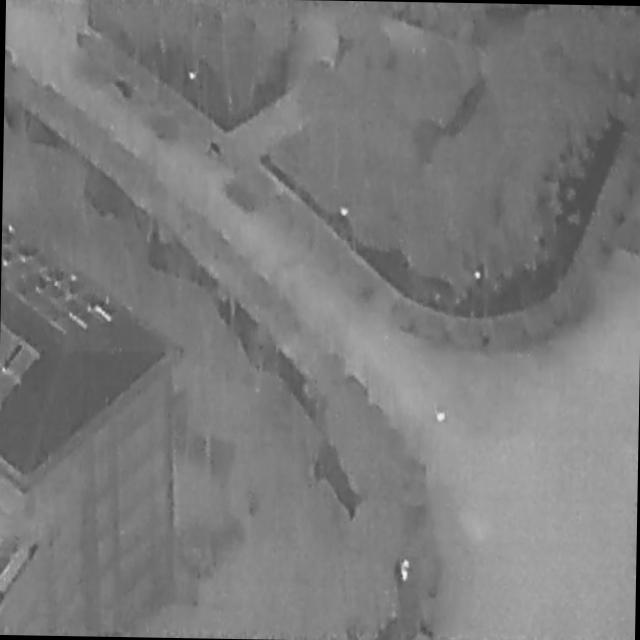person: (401, 559, 410, 584)
